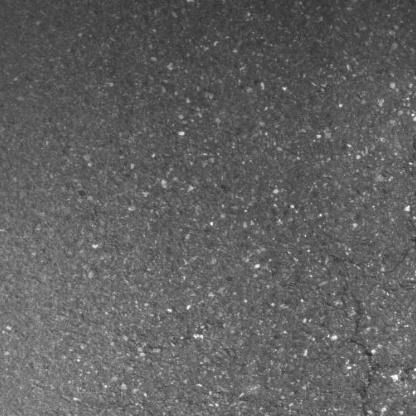Cracks: (346, 291, 416, 416)
